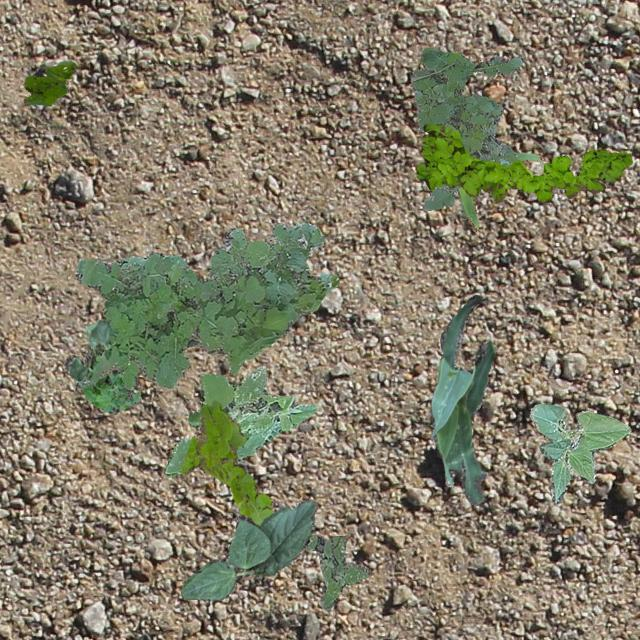crop: (180, 498, 316, 600), (430, 294, 494, 504), (528, 403, 630, 502), (457, 152, 542, 230), (64, 319, 110, 382)
weed: (74, 220, 338, 388), (409, 46, 522, 210), (416, 122, 630, 202), (164, 364, 316, 476), (180, 400, 272, 524), (304, 534, 370, 608), (80, 352, 140, 412), (23, 60, 76, 104)
